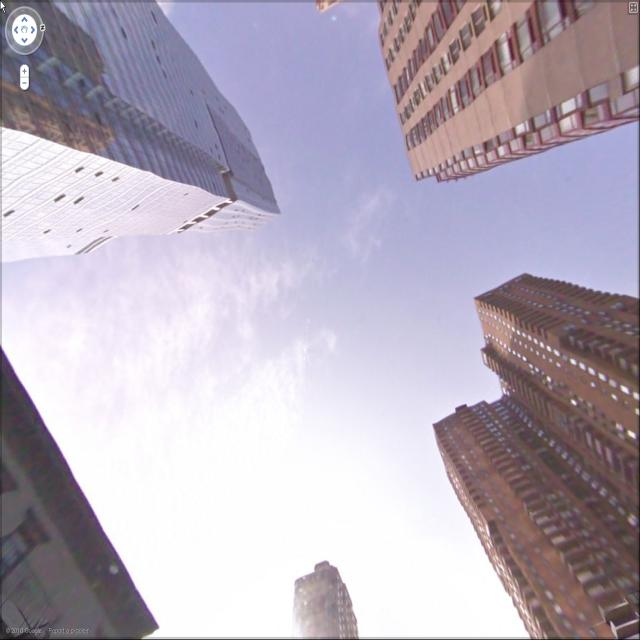b_1: (11, 1, 302, 251), (437, 275, 635, 639), (0, 335, 182, 632), (368, 7, 636, 178), (291, 555, 368, 640)
